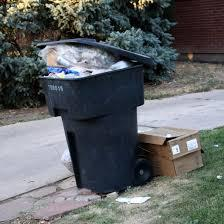trash_can_overflow: (22, 29, 207, 202)
